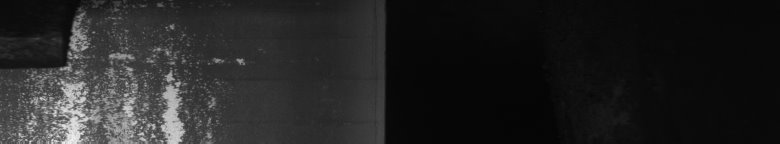kb: (8, 4, 245, 136)
